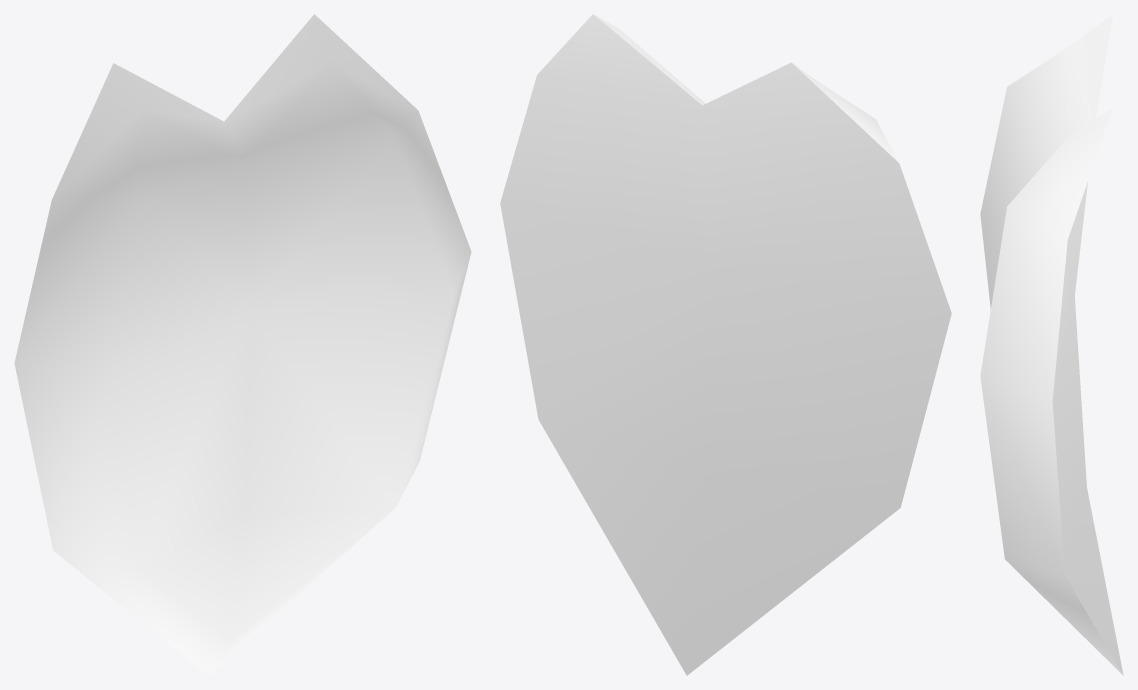
Rendered from ps2_save-icons_kyuuketsuhime.glb.
3 views of the same model, side by side, from view 1: azimuth 30°, elevation 25°; view 2: azimuth 150°, elevation 25°; view 3: azimuth 270°, elevation 25° (orthographic). The views are drawn at different scales.
Parts seen in each view (by area): view 1: icon.ico; view 2: icon.ico; view 3: icon.ico.
Part boxes in pixels (x1,y1,x2,y2): icon.ico: [14, 14, 471, 675]; icon.ico: [500, 14, 951, 675]; icon.ico: [980, 14, 1123, 675].
Size of the model in its own units: 2.73 by 3.66 by 0.7732.
1 material, 1 textured.
